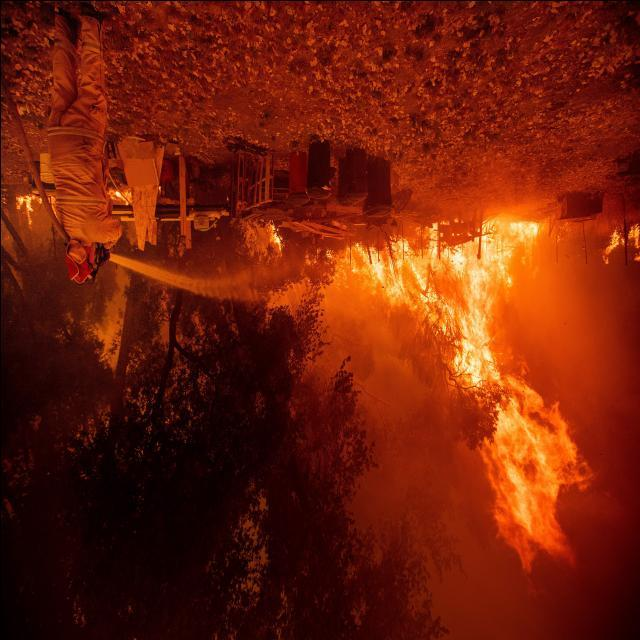Fire: (354, 220, 586, 550)
